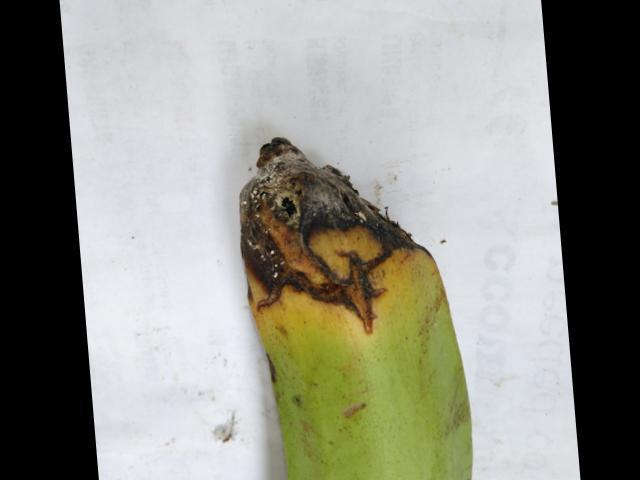rotten: (210, 126, 445, 345)
